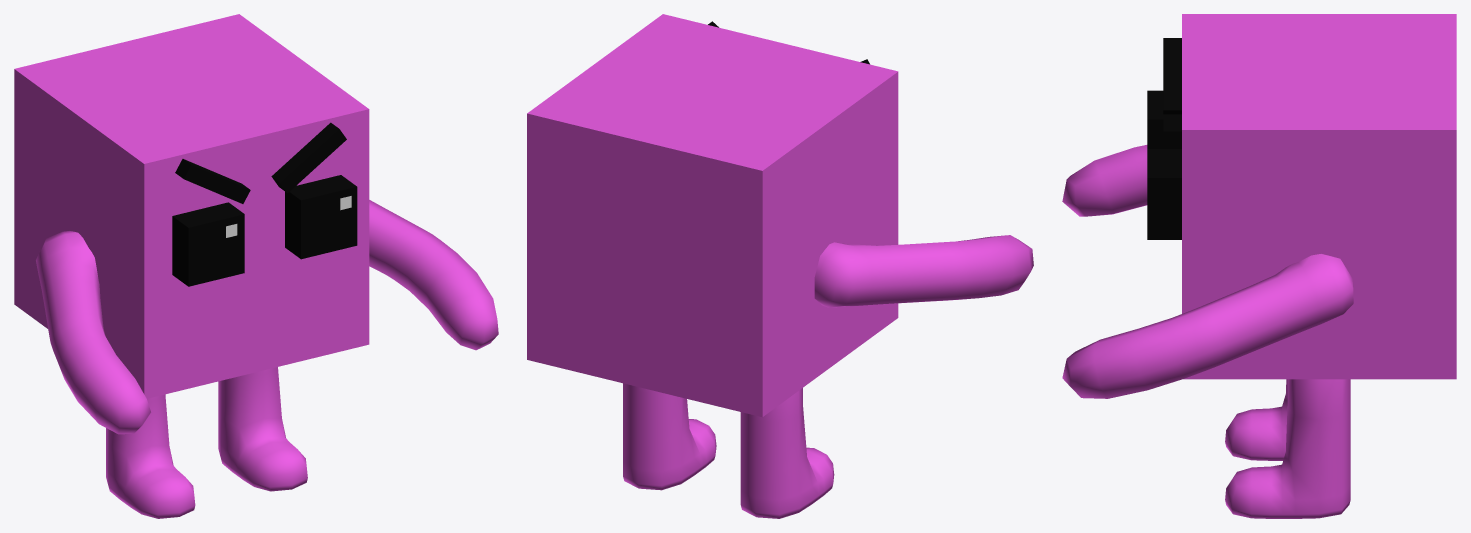
File: Small_Cube_Enemy.fbx
3 views of the same model, side by side, from view 1: azimuth 30°, elevation 25°; view 2: azimuth 150°, elevation 25°; view 3: azimuth 270°, elevation 25° (orthographic). The views are drawn at different scales.
Parts seen in each view (by area): view 1: Body, Right_Arm, Left_Arm, Left_Boot, Right_Boot, Right_Eye, Left_Eye, Left_EyeBrow, Right_EyeBrow; view 2: Body, Right_Arm, Right_Boot, Left_Boot; view 3: Body, Left_Arm, Left_Boot, Right_Arm, Left_Eye, Right_Boot, Right_EyeBrow, Right_Eye, Left_EyeBrow.
Boxes of the visible parts, box(x1,y1,x2,y2) form: Body: box(14, 14, 369, 398); Right_Arm: box(36, 231, 150, 434); Left_Arm: box(369, 200, 498, 350); Left_Boot: box(218, 367, 307, 491); Right_Boot: box(106, 394, 195, 518); Right_Eye: box(172, 202, 244, 286); Left_Eye: box(285, 175, 357, 259); Left_EyeBrow: box(271, 122, 346, 193); Right_EyeBrow: box(175, 159, 250, 203); Body: box(527, 14, 898, 417); Right_Arm: box(814, 235, 1033, 307); Right_Boot: box(740, 388, 834, 518); Left_Boot: box(623, 383, 716, 490); Body: box(1182, 14, 1456, 379); Left_Arm: box(1062, 254, 1353, 398); Left_Boot: box(1225, 379, 1350, 518); Right_Arm: box(1062, 145, 1147, 216); Left_Eye: box(1147, 149, 1181, 239); Right_Boot: box(1225, 379, 1287, 460); Right_EyeBrow: box(1163, 38, 1181, 114); Right_Eye: box(1147, 90, 1181, 148); Left_EyeBrow: box(1163, 114, 1181, 142).
Bounding box in the file's own units: 1446 × 1300 × 1148.
